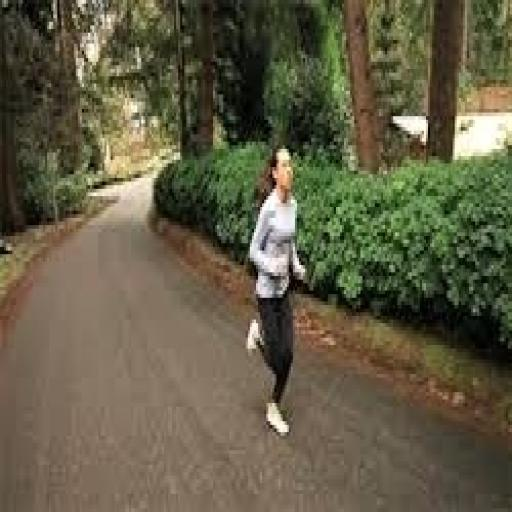running: (242, 142, 309, 440)
